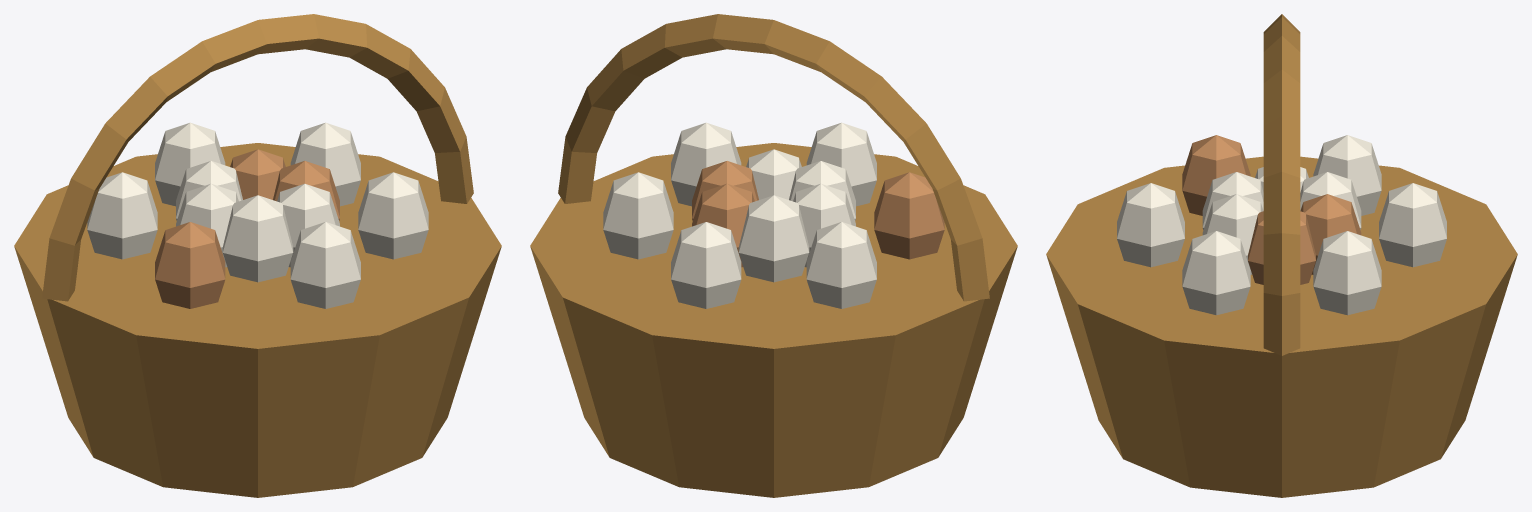
File: egg_basket.glb
The picture shows the model from 3 angles, left to right: view 1: azimuth 30°, elevation 25°; view 2: azimuth 150°, elevation 25°; view 3: azimuth 270°, elevation 25°; orthographic projection. The views are drawn at different scales.
Visible parts, largest first — view 1: basket_egg_wicker, eggs_egg_white (×9), handle_egg_wicker, eggs_egg_brown (×3); view 2: basket_egg_wicker, eggs_egg_white (×9), handle_egg_wicker, eggs_egg_brown (×3); view 3: basket_egg_wicker, eggs_egg_white (×8), handle_egg_wicker, eggs_egg_brown (×3).
Boxes of the visible parts, x1,y1,x2,y2 form: basket_egg_wicker: (14,143,501,497); eggs_egg_white (×9): (87,122,428,308); handle_egg_wicker: (42,14,473,301); eggs_egg_brown (×3): (155,149,339,308); basket_egg_wicker: (530,143,1017,497); eggs_egg_white (×9): (603,122,876,308); handle_egg_wicker: (558,14,989,301); eggs_egg_brown (×3): (692,161,944,267); basket_egg_wicker: (1046,156,1517,497); eggs_egg_white (×8): (1117,135,1446,315); handle_egg_wicker: (1263,14,1300,355); eggs_egg_brown (×3): (1182,135,1361,284).
Bounding box in the file's own units: 0.368 × 0.324 × 0.36.
